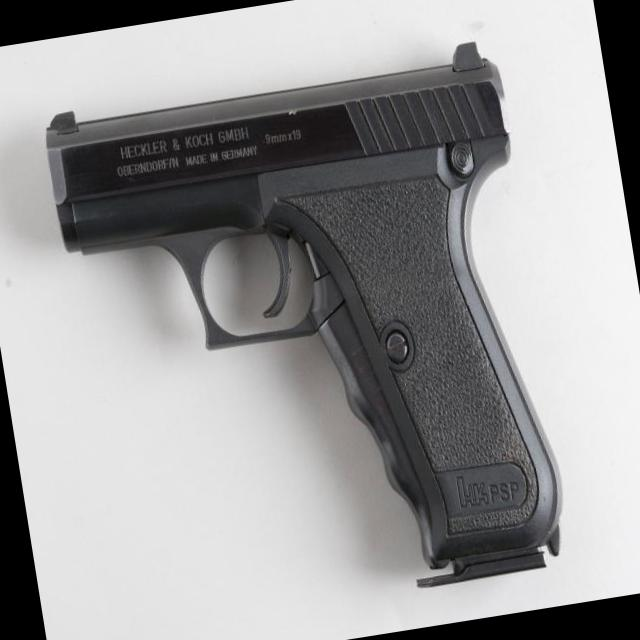Gun: (47, 45, 563, 589)
